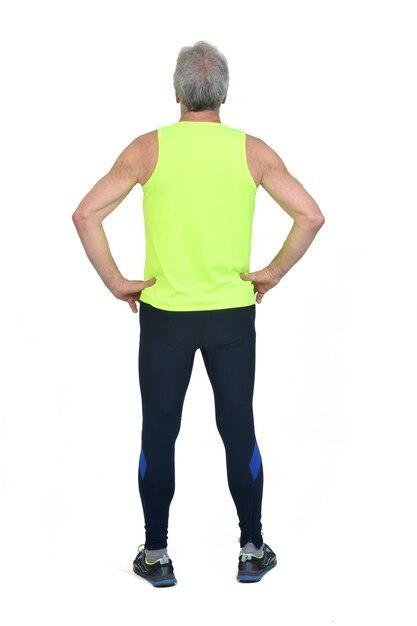Human: (79, 19, 312, 588)
